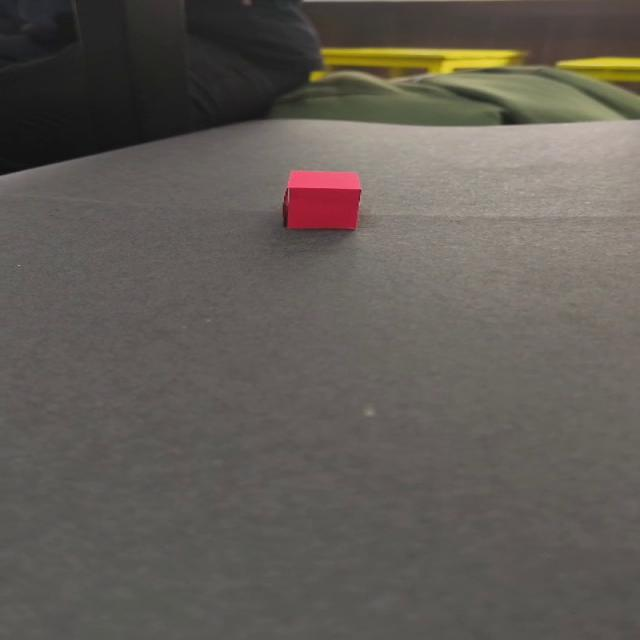red block: (282, 169, 362, 230)
